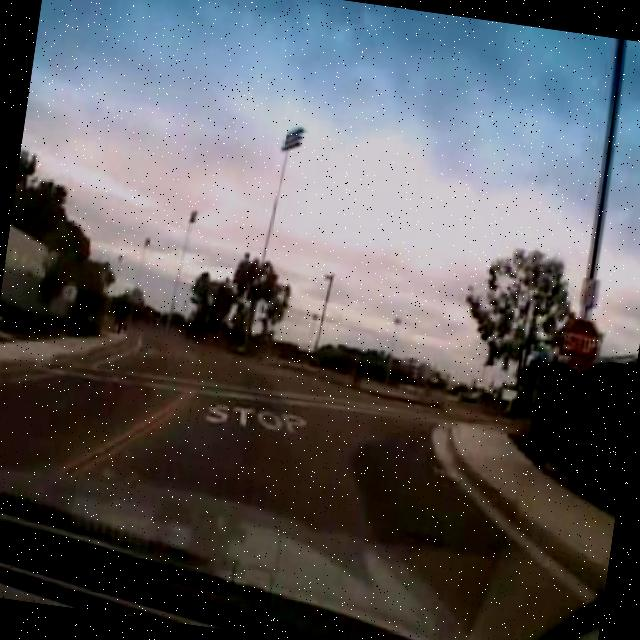Stop: (555, 317, 604, 381)
